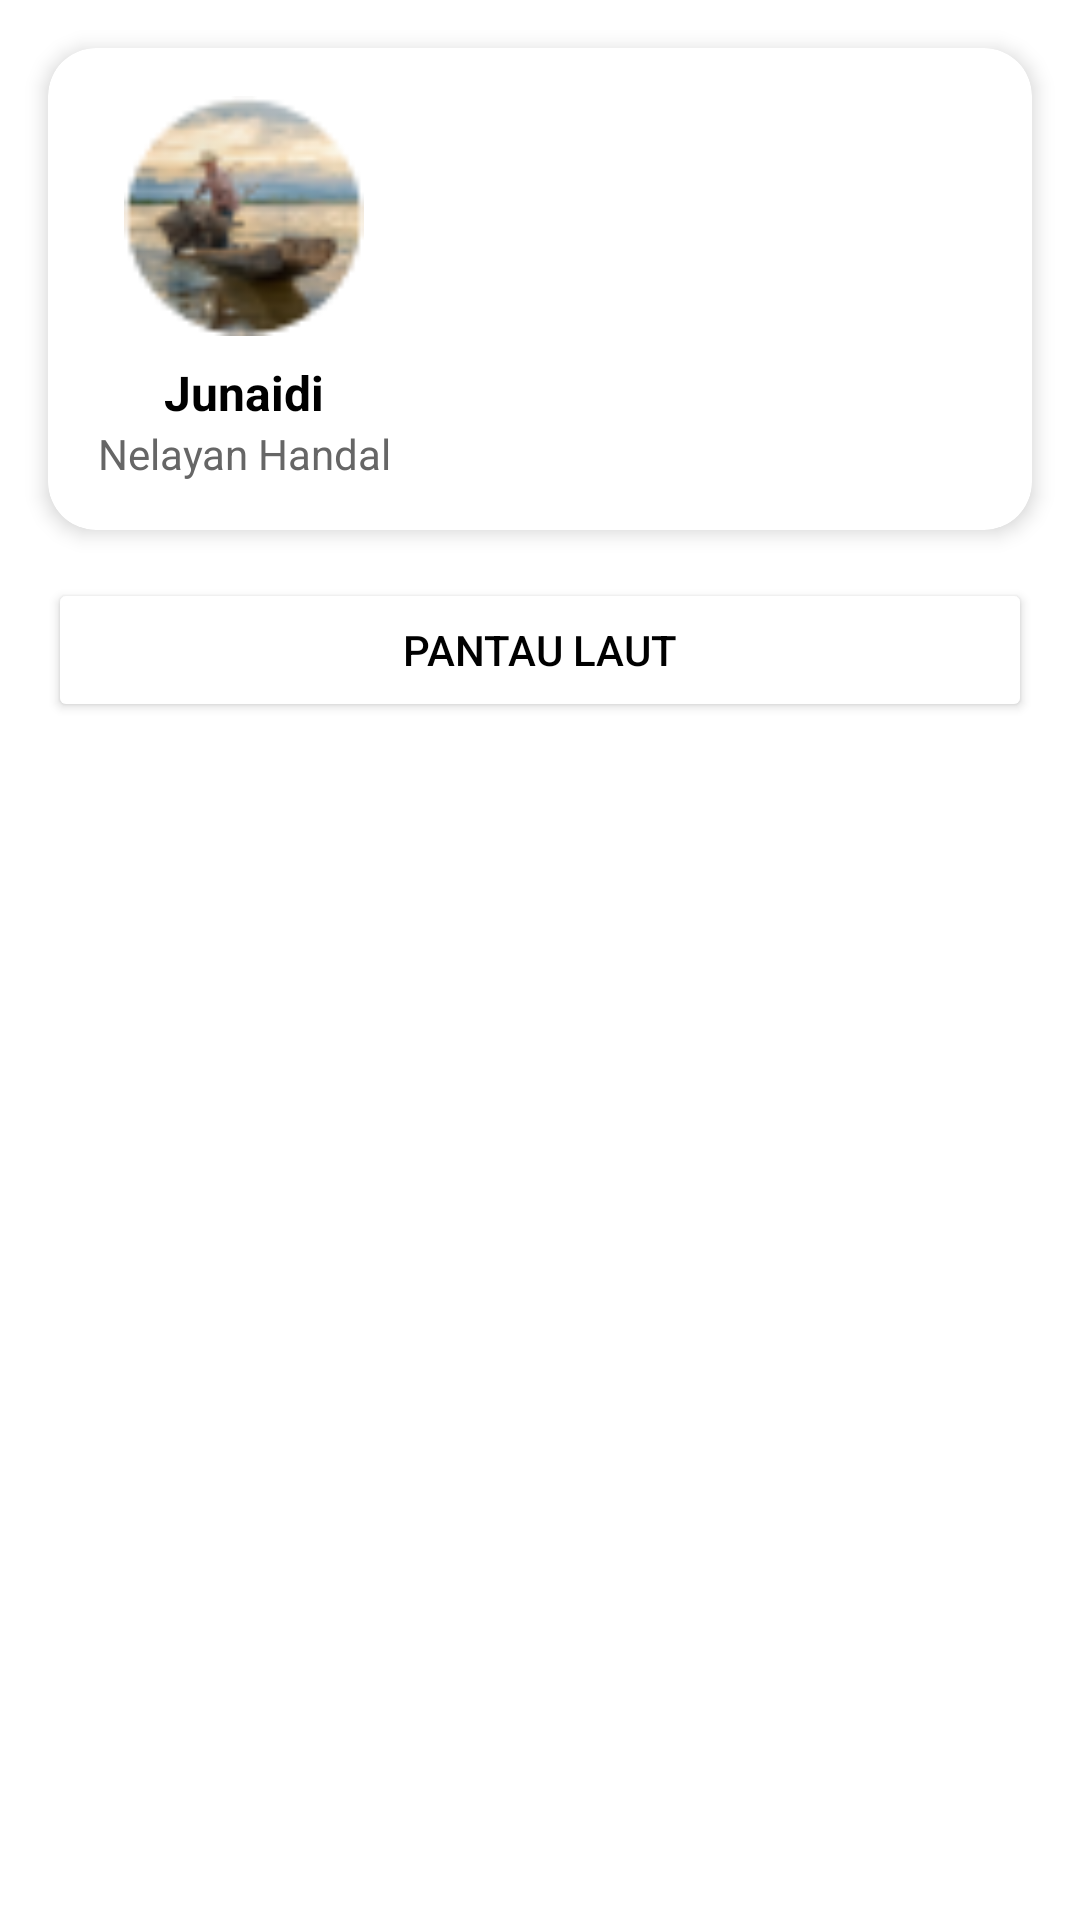

Icon bounding boxes for this 1080px×1920px phone screenshot, format (x1, y1, x2, y2):
profil: (124, 100, 364, 336)
